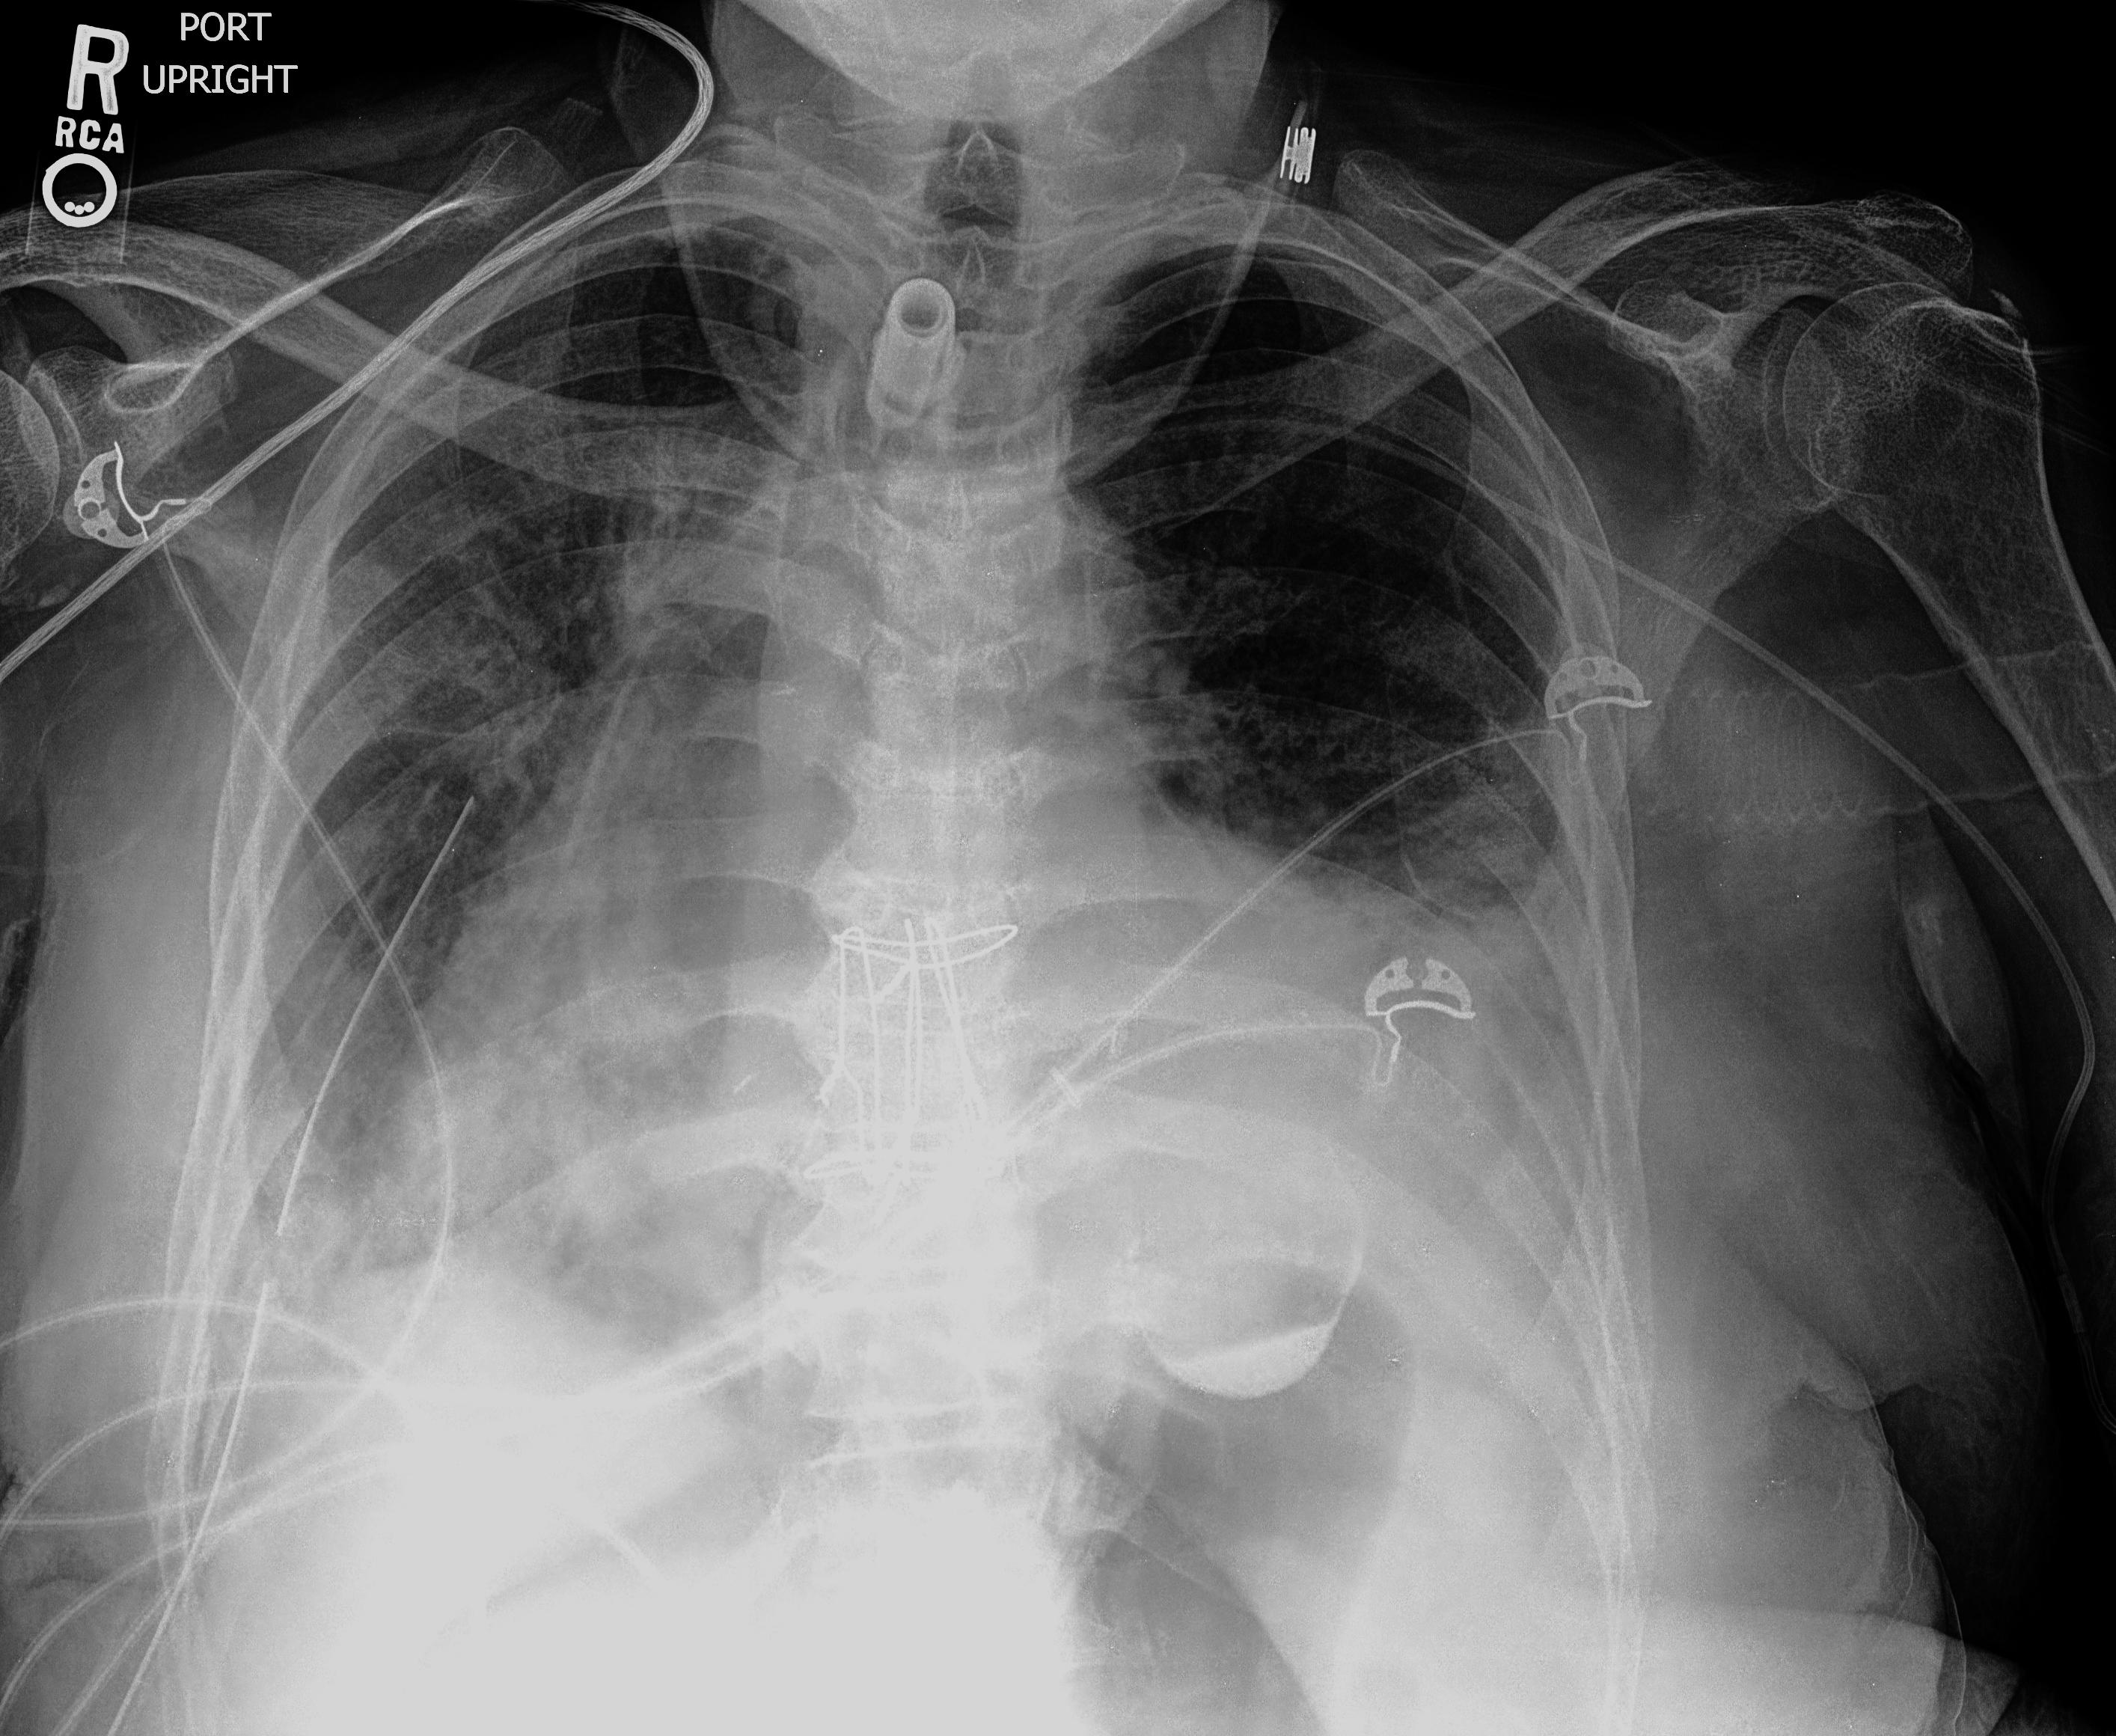Pleural Effusion: (149, 1109, 643, 1537), (1232, 877, 1643, 1360)
